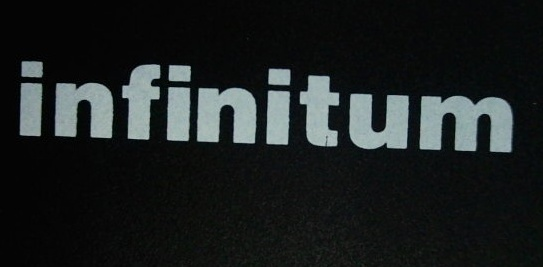BK_infinitum: (15, 55, 514, 155)
